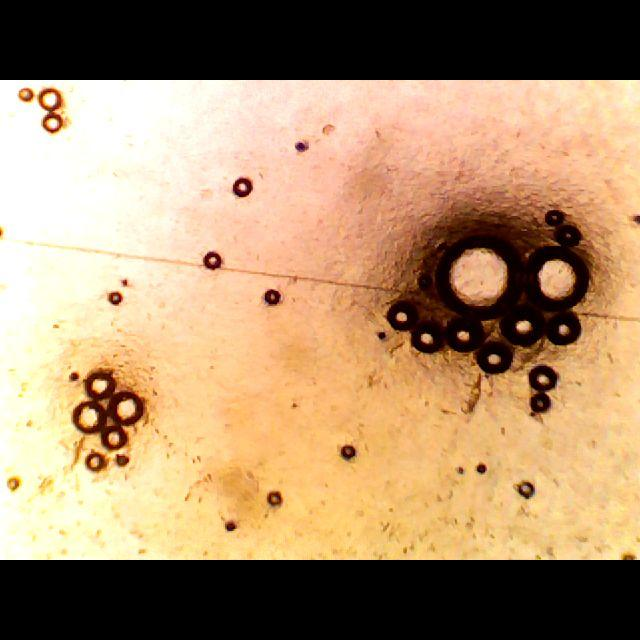microbeads: (368, 194, 604, 374)
